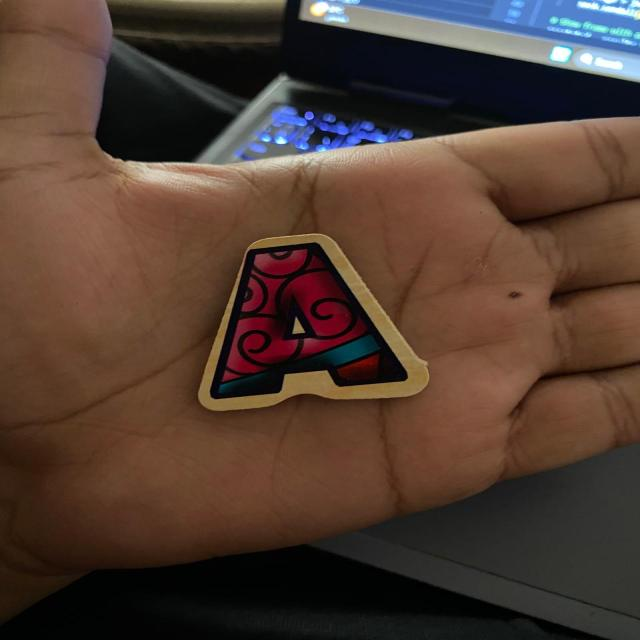A: (199, 234, 428, 411)
